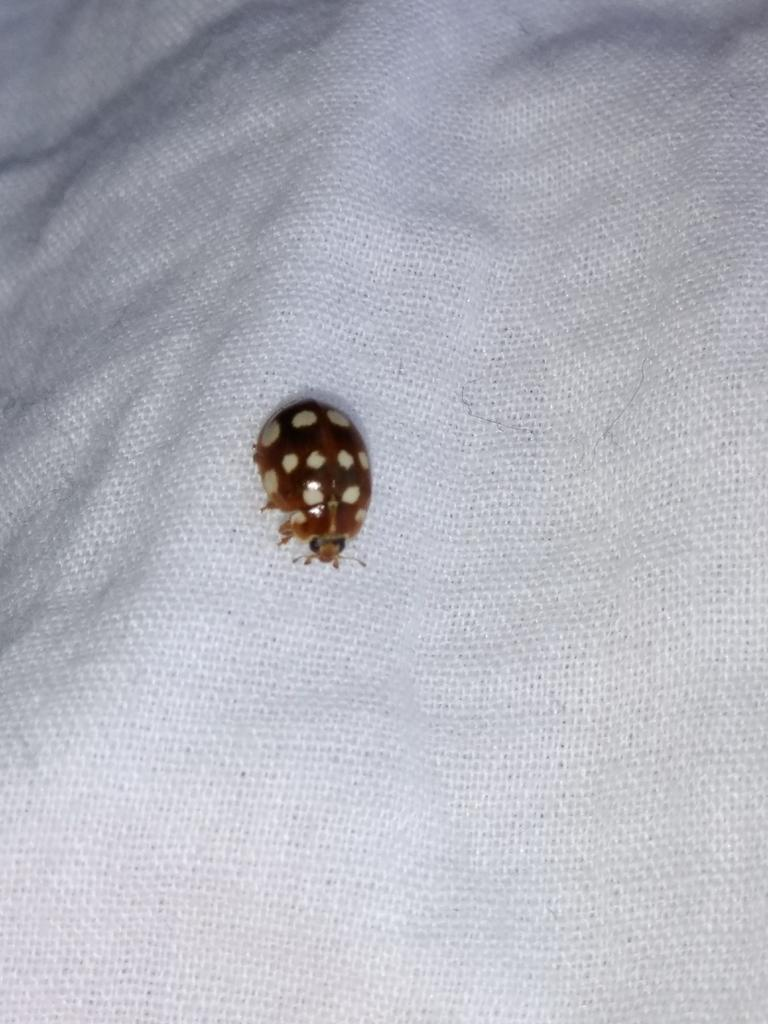ladybug: (249, 386, 384, 586)
